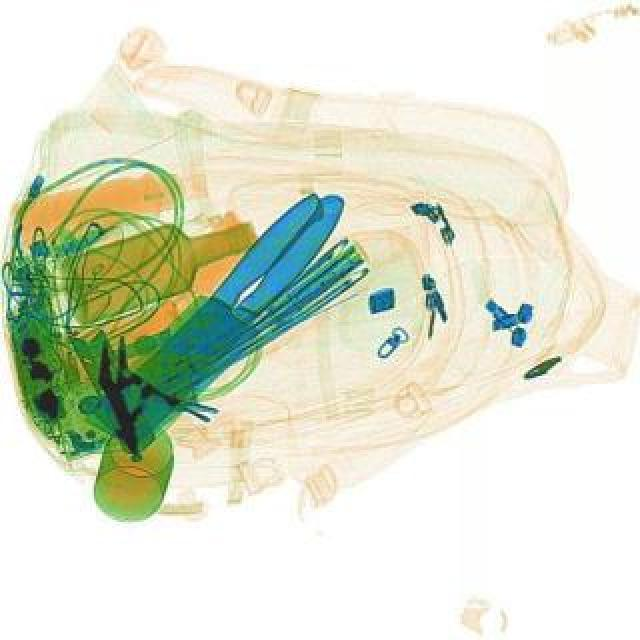knife: (80, 174, 370, 458), (86, 188, 362, 456)
